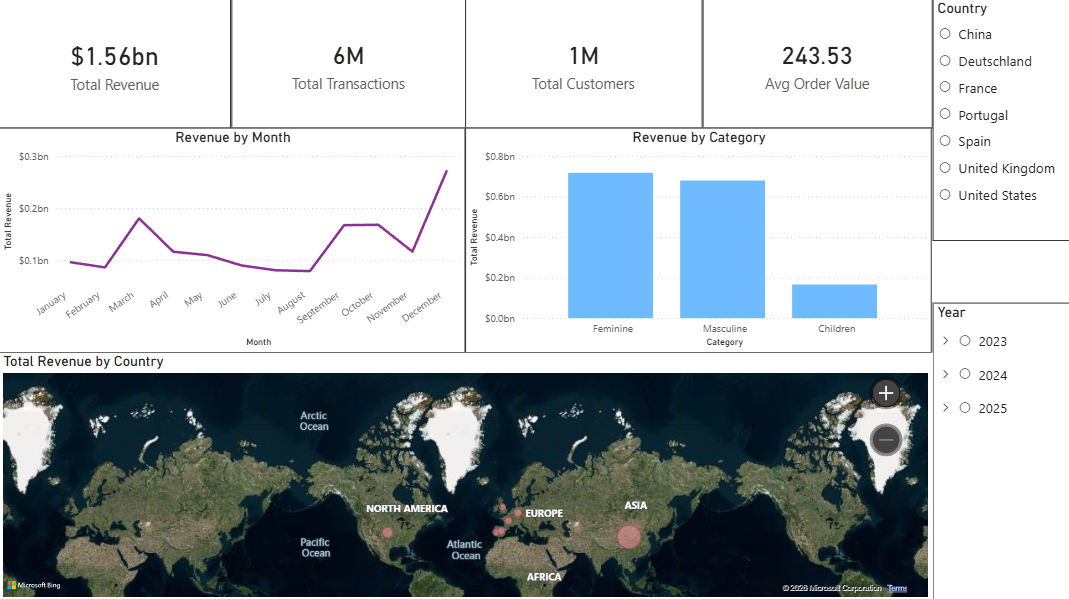

What the dashboard file says about the page in this screenshot:
{"tool":"powerbi","page":{"name":"Executive Overview","canvas":[1280,720],"ordinal":0},"visuals":[{"type":"card","fields":{"Values":["customers.Total Revenue"]},"box":[0,0,277.1,154.3],"z":0},{"type":"card","fields":{"Values":["customers.Total Transactions"]},"box":[277.1,0,280,154.3],"z":1000},{"type":"card","fields":{"Values":["customers.Total Customers"]},"box":[557.1,0,282.9,154.3],"z":2000},{"type":"card","fields":{"Values":["customers.Avd Order Value"]},"box":[840,0,274.3,154.3],"z":3000},{"type":"listSlicer","fields":{"Values":["customers.Country"]},"box":[1114.3,0,165.7,288.6],"z":4000},{"type":"lineChart","title":"Revenue by Month","fields":{"Y":["customers.Total Revenue"],"Category":["transactions.Date.Variation.Date Hierarchy.Year","transactions.Date.Variation.Date Hierarchy.Quarter","transactions.Date.Variation.Date Hierarchy.Month","transactions.Date.Variation.Date Hierarchy.Day"]},"box":[0,154.3,557.1,268.6],"z":5000},{"type":"clusteredColumnChart","title":"Revenue by Category","fields":{"Category":["products.Category"],"Y":["customers.Total Revenue"]},"box":[557.1,154.3,557.1,268.6],"z":6000},{"type":"listSlicer","fields":{"Values":["transactions.Date.Variation.Date Hierarchy.Year","transactions.Date.Variation.Date Hierarchy.Month","transactions.Date.Variation.Date Hierarchy.Day"]},"box":[1114.3,362.9,165.7,357.1],"z":7000},{"type":"map","fields":{"Category":["customers.Country"],"Size":["customers.Total Revenue"]},"box":[0,422.9,1114.3,297.1],"z":8000}]}

Visuals, with their boxes in screenshot pixels (x1, y1, x2, y2), scaled from the page's 1280x720 canvas onto the 1069x599 screenshot:
card - customers.Total Revenue: [left=0, top=0, right=231, bottom=128]
card - customers.Total Transactions: [left=231, top=0, right=465, bottom=128]
card - customers.Total Customers: [left=465, top=0, right=702, bottom=128]
card - customers.Avd Order Value: [left=702, top=0, right=931, bottom=128]
listSlicer - customers.Country: [left=931, top=0, right=1068, bottom=240]
"Revenue by Month" lineChart: [left=0, top=128, right=465, bottom=352]
"Revenue by Category" clusteredColumnChart: [left=465, top=128, right=931, bottom=352]
listSlicer - transactions.Date.Variation.Date Hierarchy.Year x transactions.Date.Variation.Date Hierarchy.Month: [left=931, top=302, right=1068, bottom=598]
map - customers.Country x customers.Total Revenue: [left=0, top=352, right=931, bottom=598]
